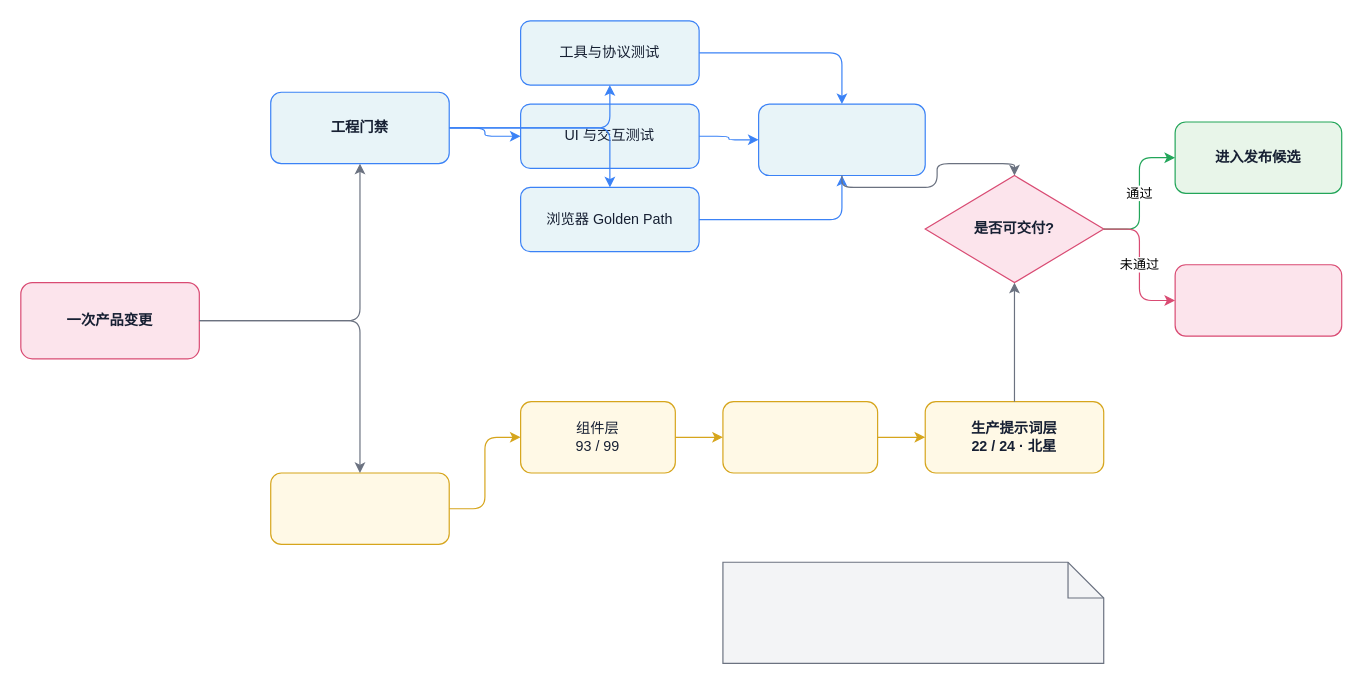
The diagram is 1363 pixels wide and 684 high, and some of its shapes have lost their labels. The shapes that lost their labels are listed below. From the top down, each one's centre as x and y in pixels, then its label:
the point at 841,139: 工程门禁结论
the point at 1258,300: 定位失败并返工
the point at 800,436: 规划层 24 / 24
the point at 359,508: Agent 评测
the point at 913,612: 两条轨道独立判断，不加权合成总分 真实数据数值层评测仍未建设
